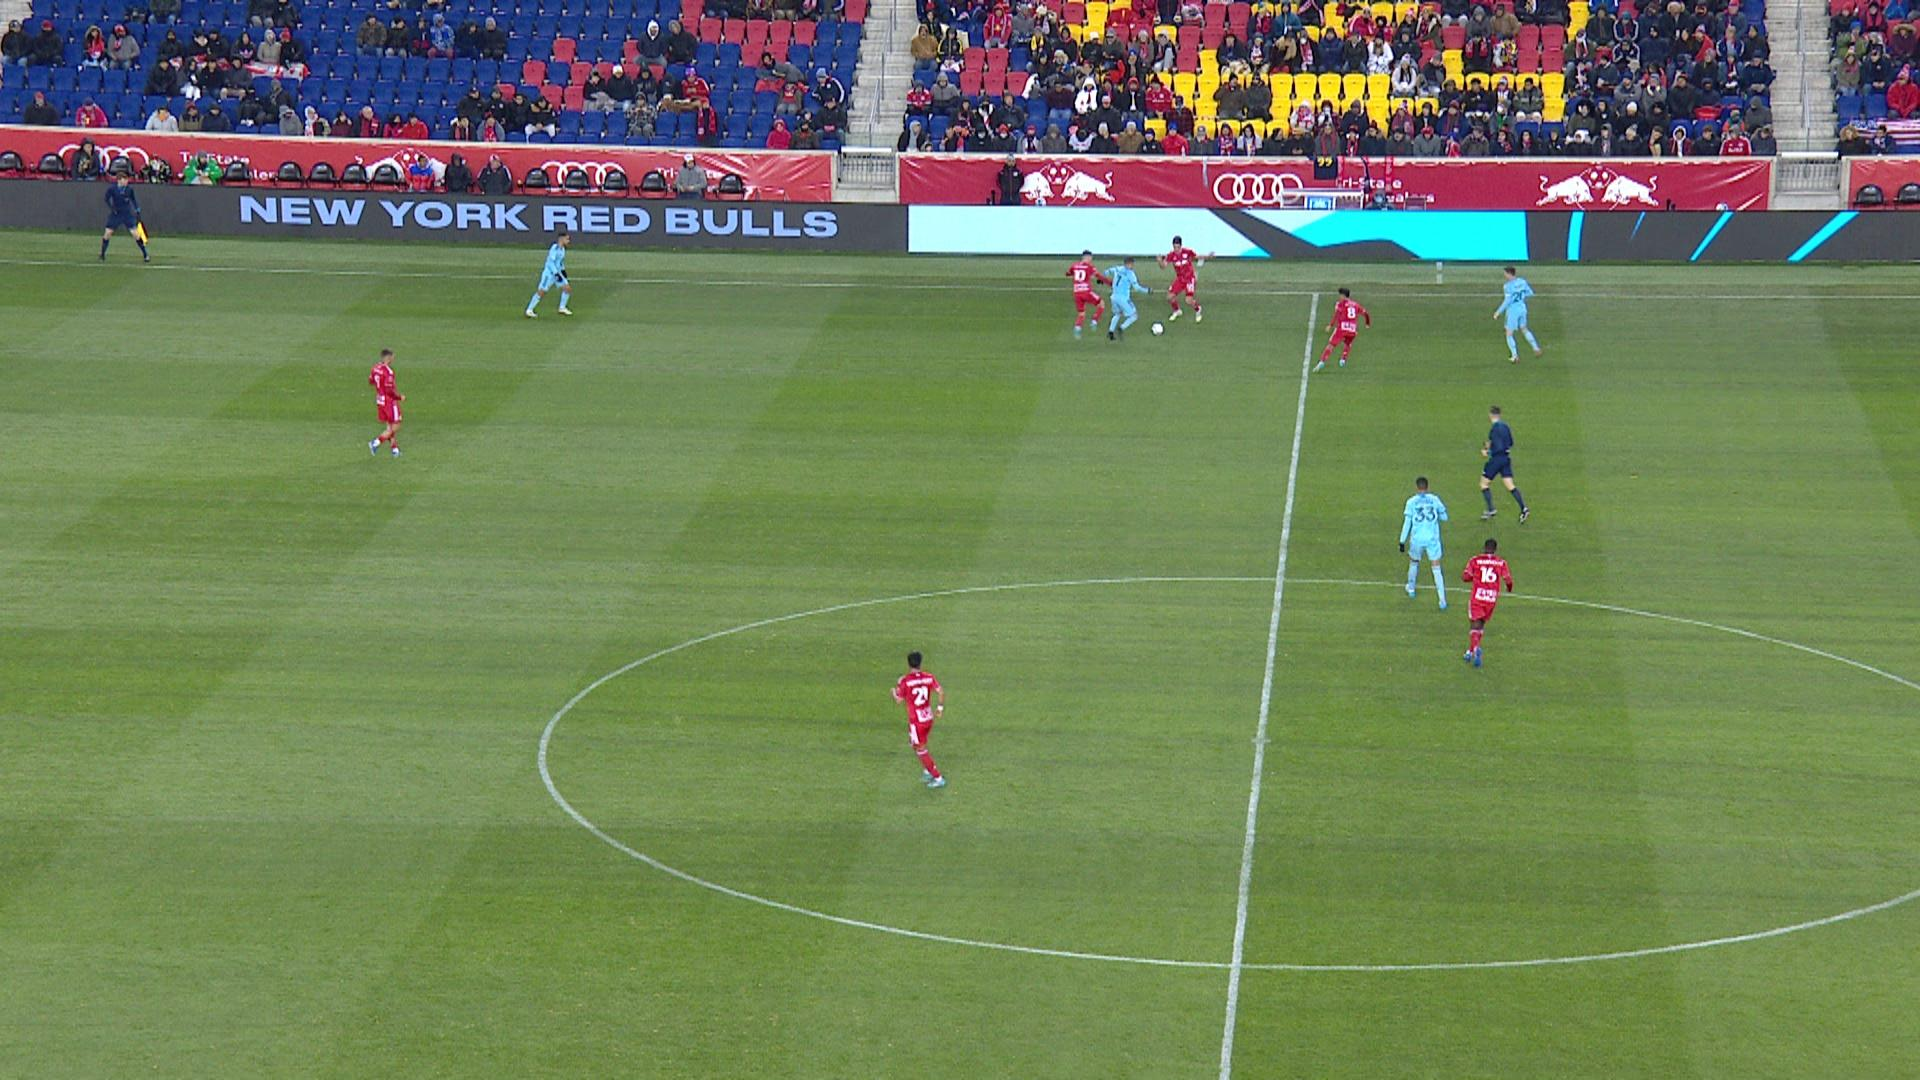football: (1150, 322, 1166, 336)
